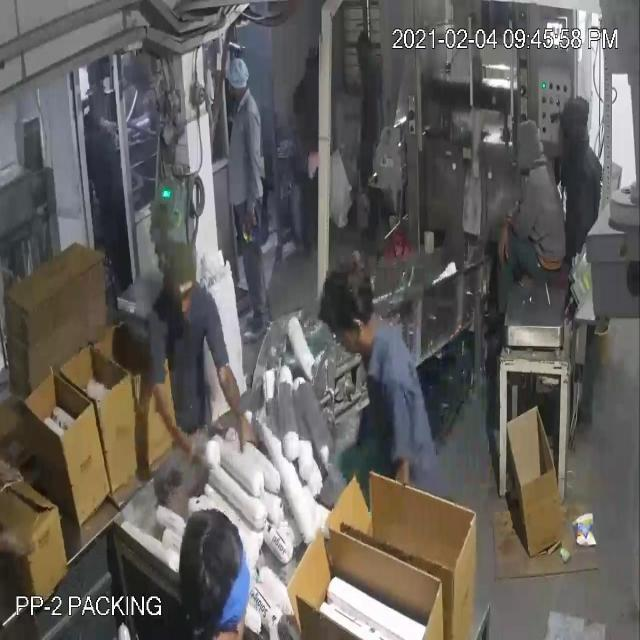No_Gloves: (20, 61, 508, 416)
